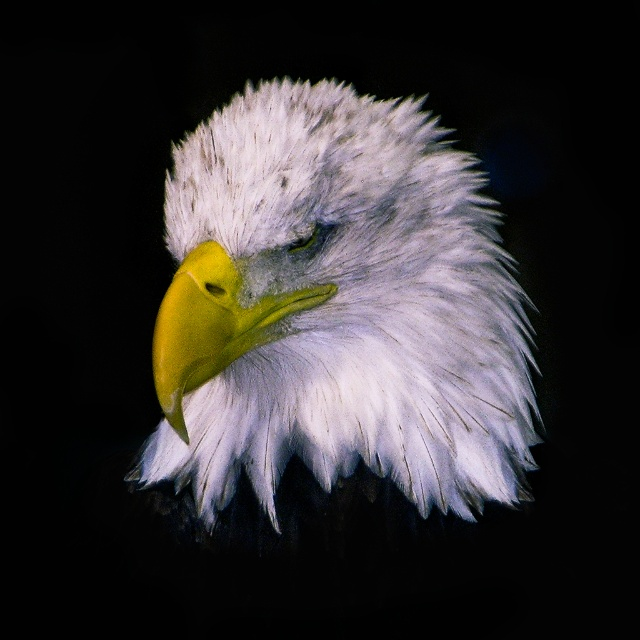Eagle: (43, 78, 547, 640)
